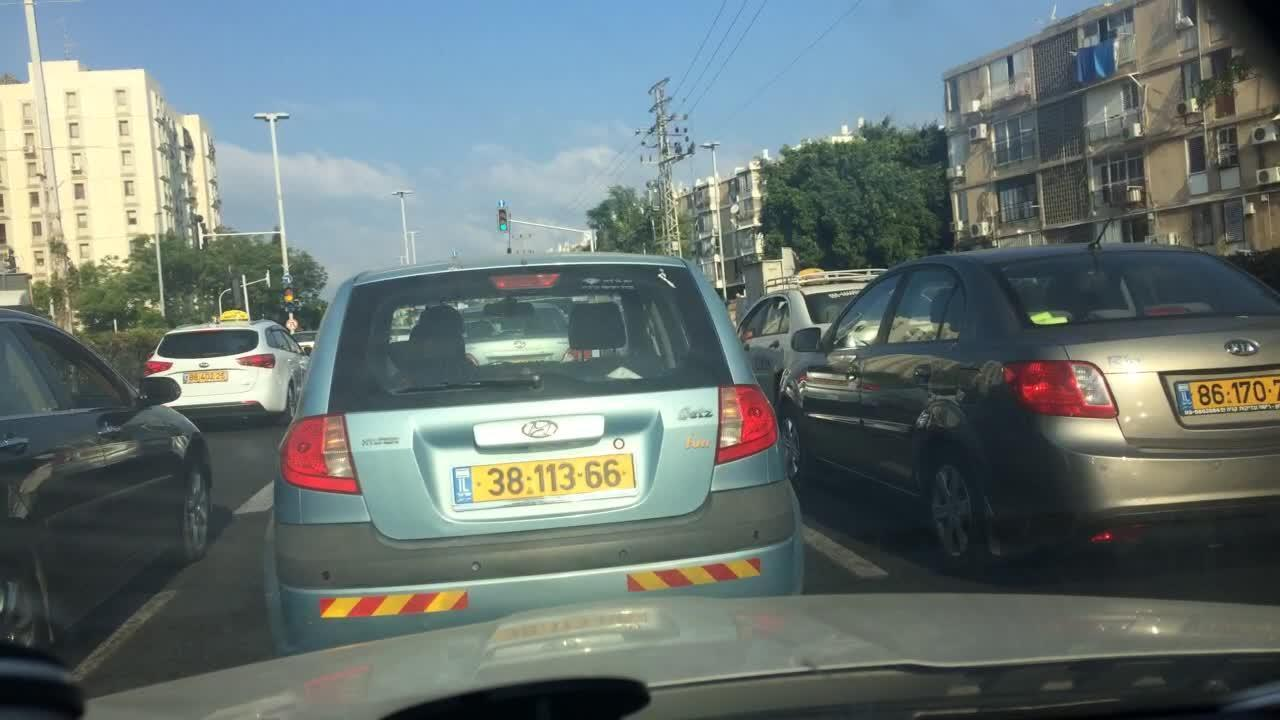Hyundai: (501, 408, 567, 446)
kia: (1212, 329, 1266, 362)
